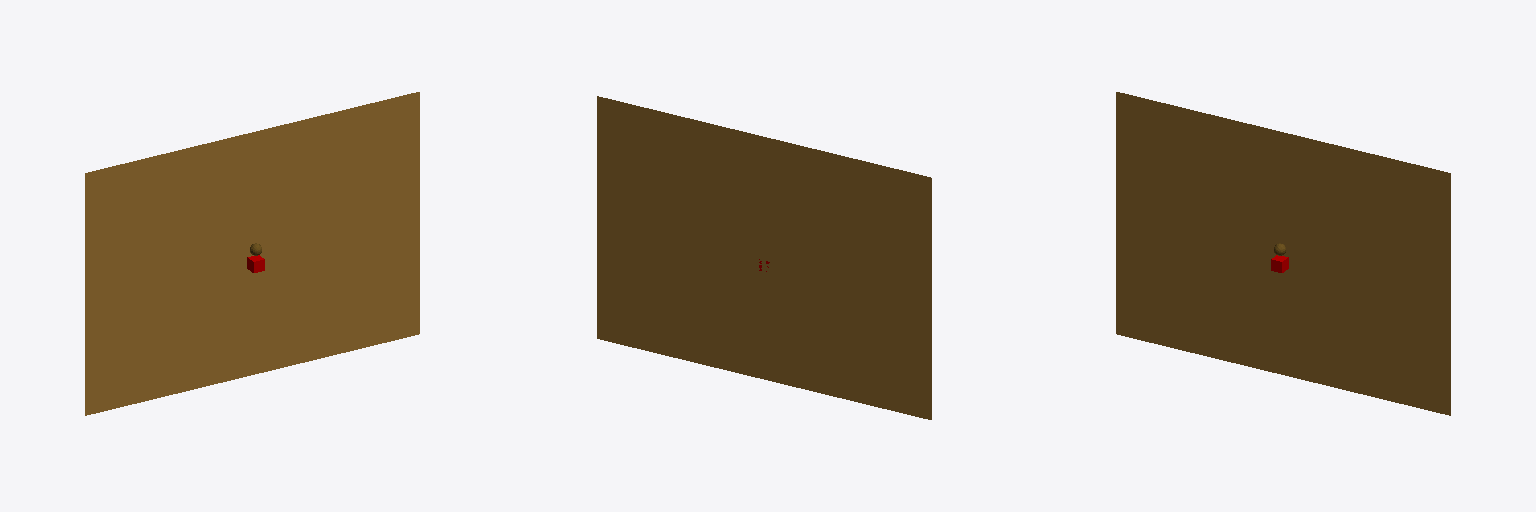
File: cajaEsfera3.obj
The picture shows the model from 3 angles: view 1: azimuth 30°, elevation 25°; view 2: azimuth 150°, elevation 25°; view 3: azimuth 330°, elevation 25°; orthographic projection.
Visible parts, largest first — view 1: Plane01; view 2: Plane01; view 3: Plane01.
Boxes of the visible parts, x1,y1,x2,y2 form: Plane01: [85, 92, 419, 415]; Plane01: [597, 96, 931, 419]; Plane01: [1116, 92, 1450, 415].
Bounding box in the file's own units: 3039 × 2104 × 100.